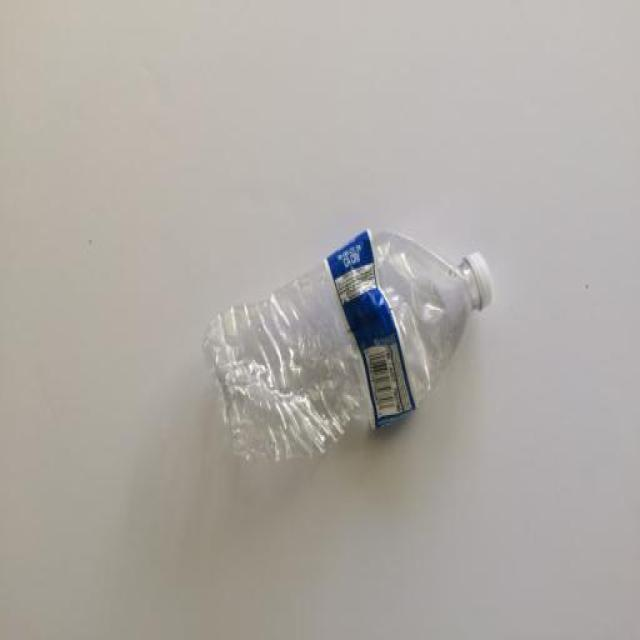Plastic: (202, 228, 495, 462)
